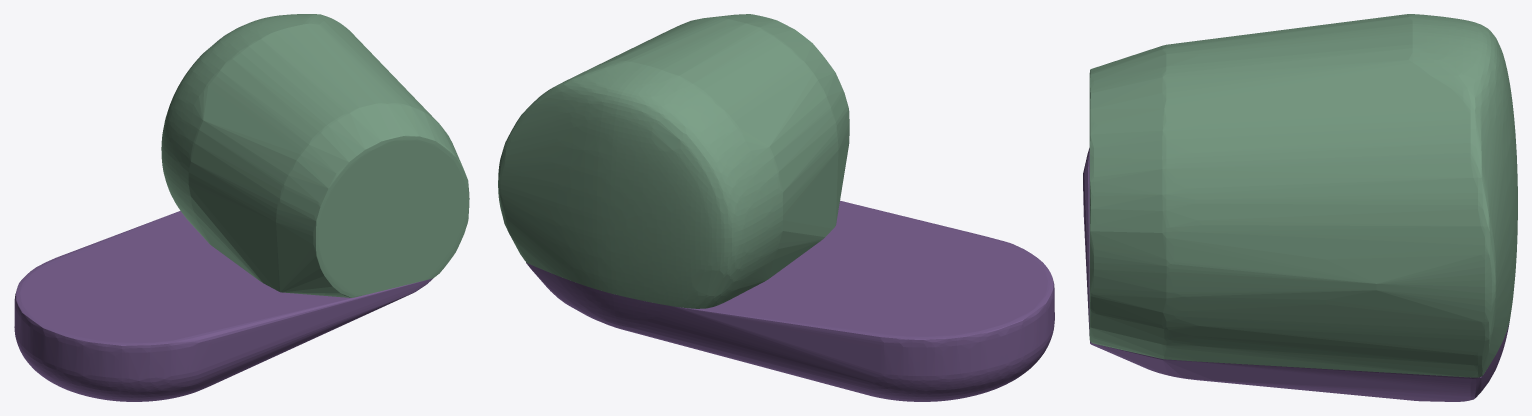
File: R_arm_l6.obj
3 views of the same model, side by side, from view 1: azimuth 30°, elevation 25°; view 2: azimuth 150°, elevation 25°; view 3: azimuth 270°, elevation 25° (orthographic). The views are drawn at different scales.
Visible parts, largest first — view 1: geometry_0, geometry_1; view 2: geometry_0, geometry_1; view 3: geometry_0, geometry_1.
Part boxes in pixels (x1,y1,x2,y2): geometry_0: [161, 14, 469, 297]; geometry_1: [14, 211, 433, 401]; geometry_0: [498, 14, 849, 308]; geometry_1: [526, 200, 1054, 401]; geometry_0: [1089, 14, 1517, 377]; geometry_1: [1083, 148, 1509, 401].
Bounding box in the file's own units: 0.1346 × 0.0821 × 0.08.
